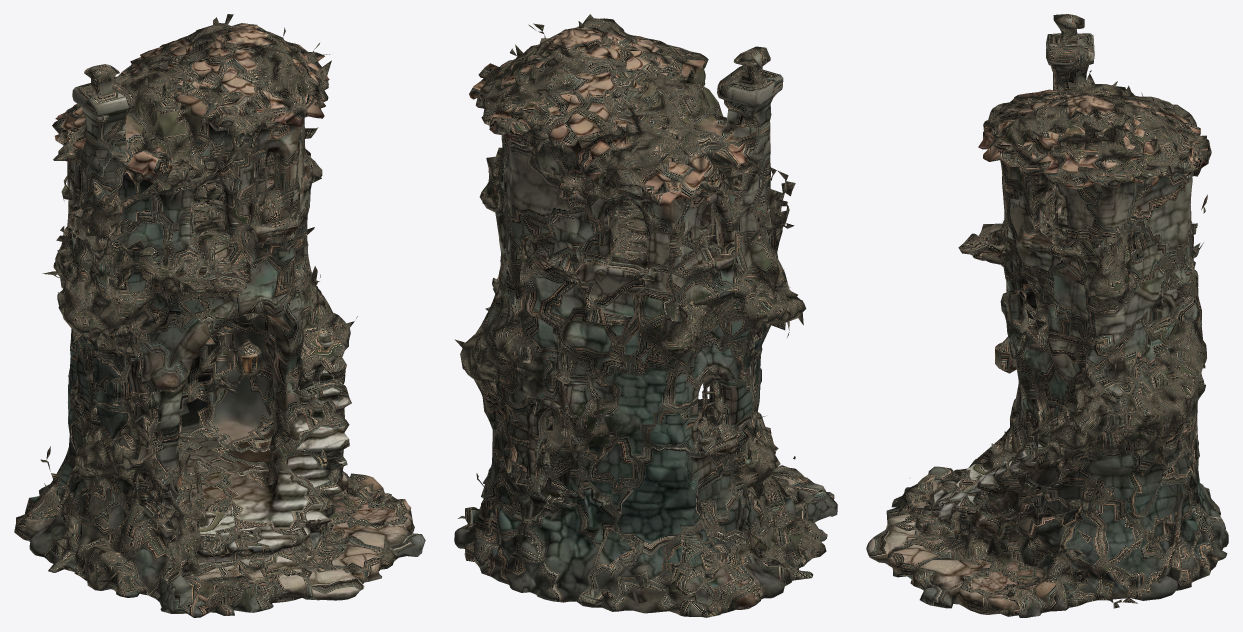
The picture shows the model from 3 angles, left to right: view 1: azimuth 30°, elevation 25°; view 2: azimuth 150°, elevation 25°; view 3: azimuth 270°, elevation 25°; orthographic projection. The views are drawn at different scales.
Bounding box in the file's own units: 1.33 × 1.89 × 1.31.
Materials: 1 (1 with a texture image).
